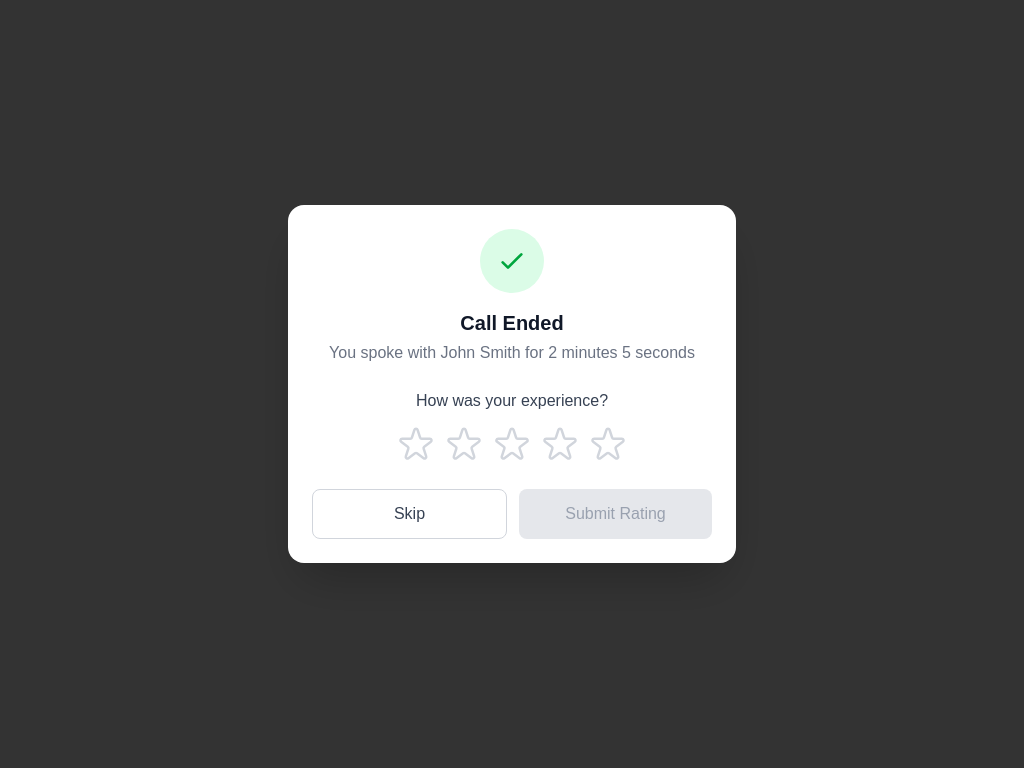
Test case: PostCallRating › Star rating interactions › shows correct labels for each rating
# Test rating labels
What coordinates should you click on to do the following:
click the radio button named "1 star - Poor"
I would click on:
 (416, 445)
Its box is [396, 425, 436, 465].
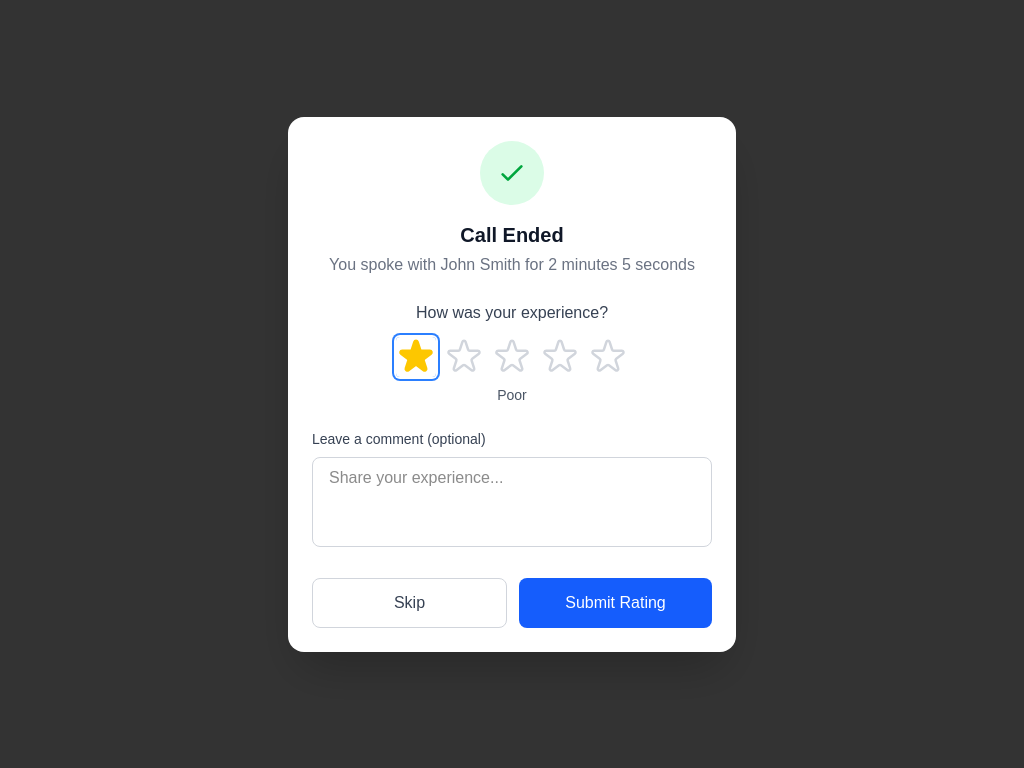
Result: the text "Poor" is shown at [497, 386, 527, 402]
What coordinates should you click on to do the following:
click the radio button named "2 stars - Fair"
I would click on:
 (464, 356)
Its box is [444, 336, 484, 376].
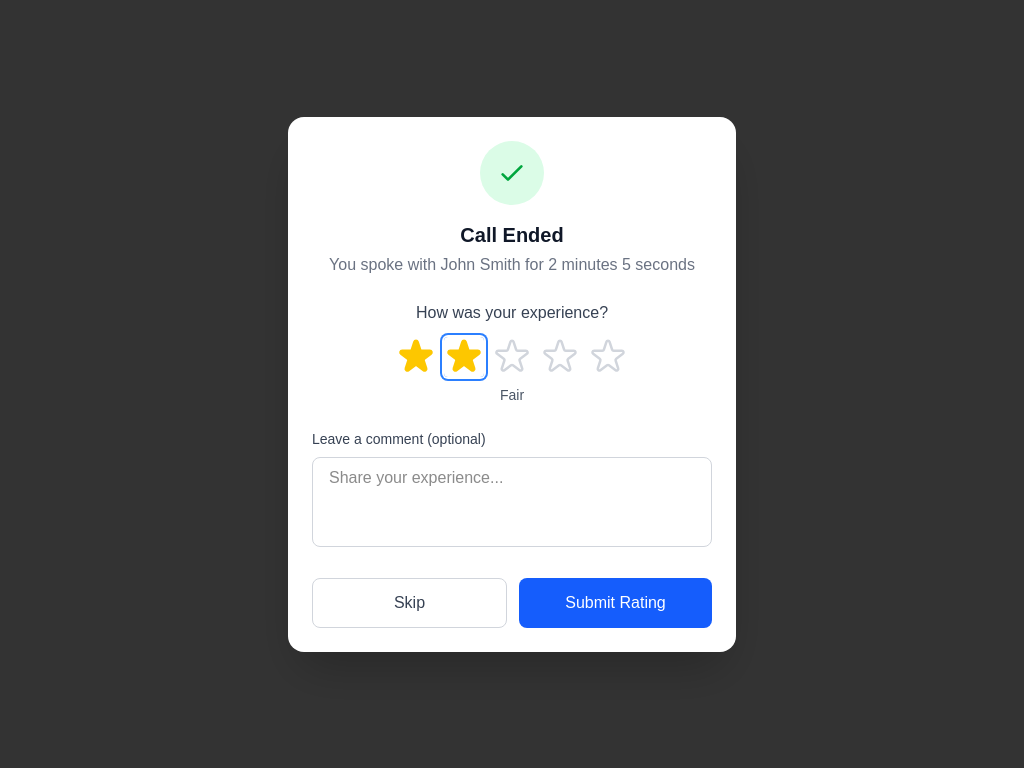
Result: the text "Fair" is shown at [500, 386, 524, 402]
What coordinates should you click on to do the following:
click the radio button named "3 stars - Good"
I would click on:
 (512, 356)
Its box is [492, 336, 532, 376].
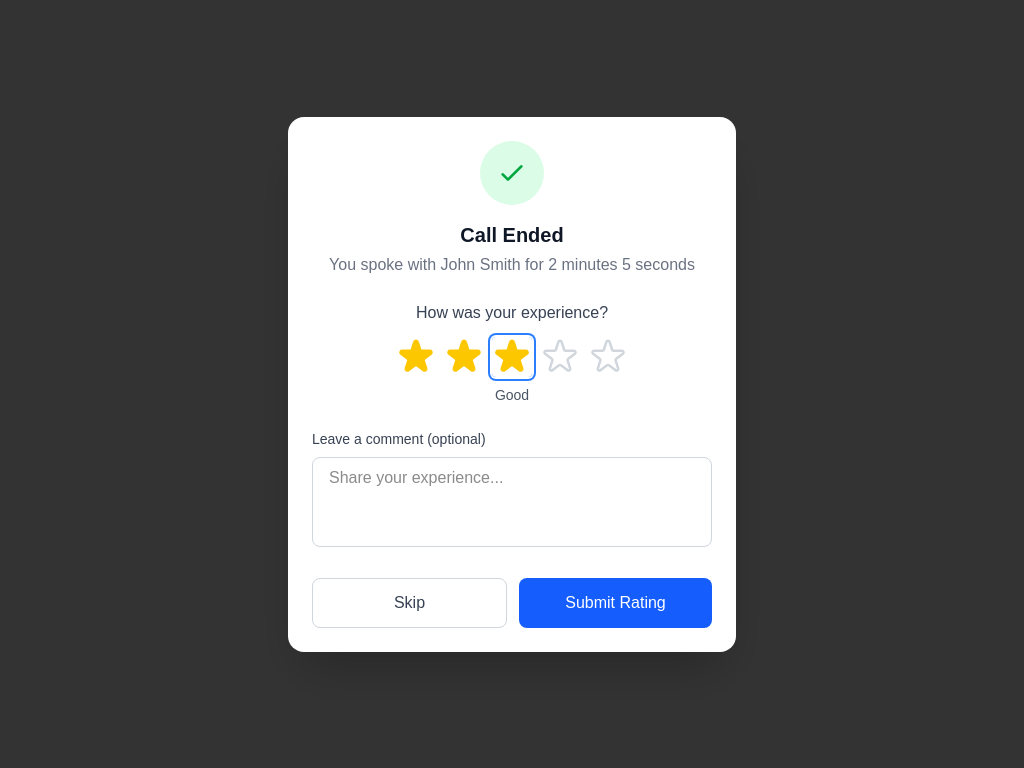
Result: the text "Good" is shown at [495, 386, 529, 402]
What coordinates should you click on to do the following:
click the radio button named "4 stars - Very Good"
I would click on:
 (560, 356)
Its box is [540, 336, 580, 376].
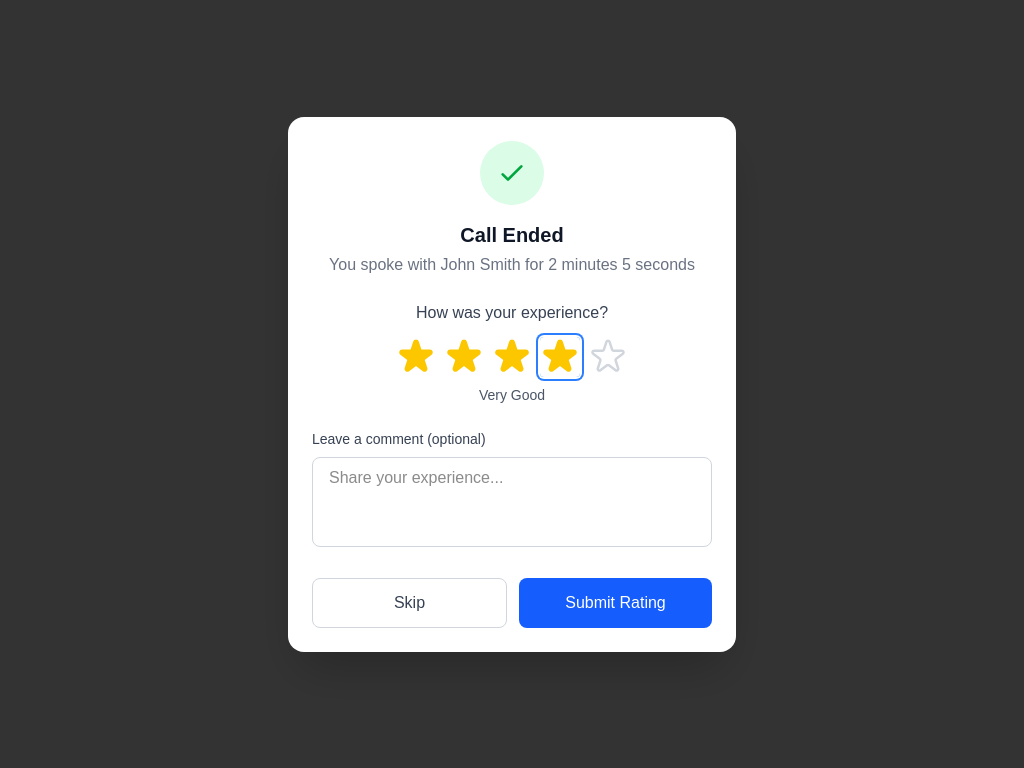
Result: the text "Very Good" is shown at [479, 386, 545, 402]
What coordinates should you click on to do the following:
click the radio button named "5 stars - Excellent"
I would click on:
 (608, 356)
Its box is [588, 336, 628, 376].
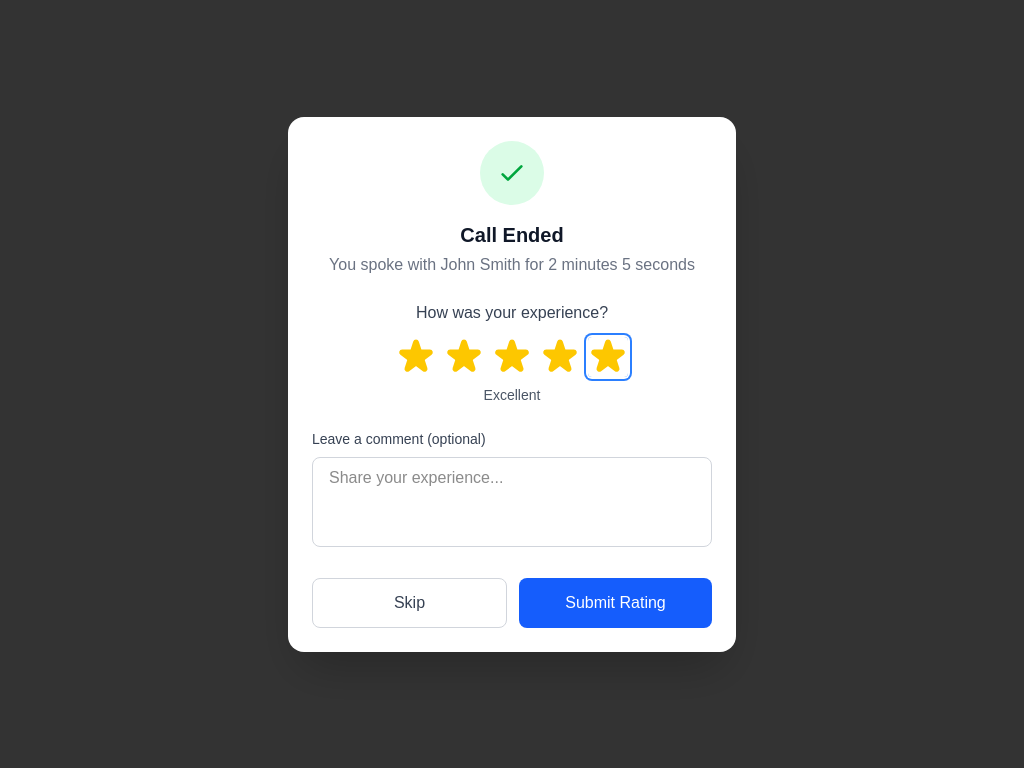
Result: the text "Excellent" is shown at [484, 386, 540, 402]
